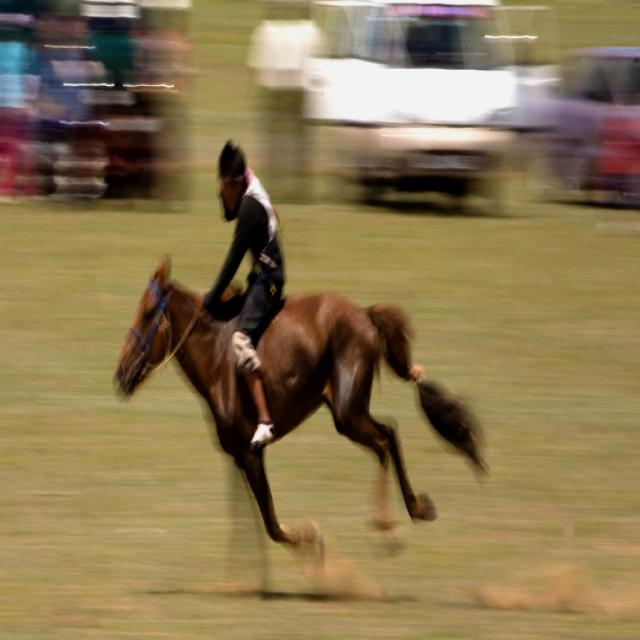Horse: (113, 250, 490, 564)
